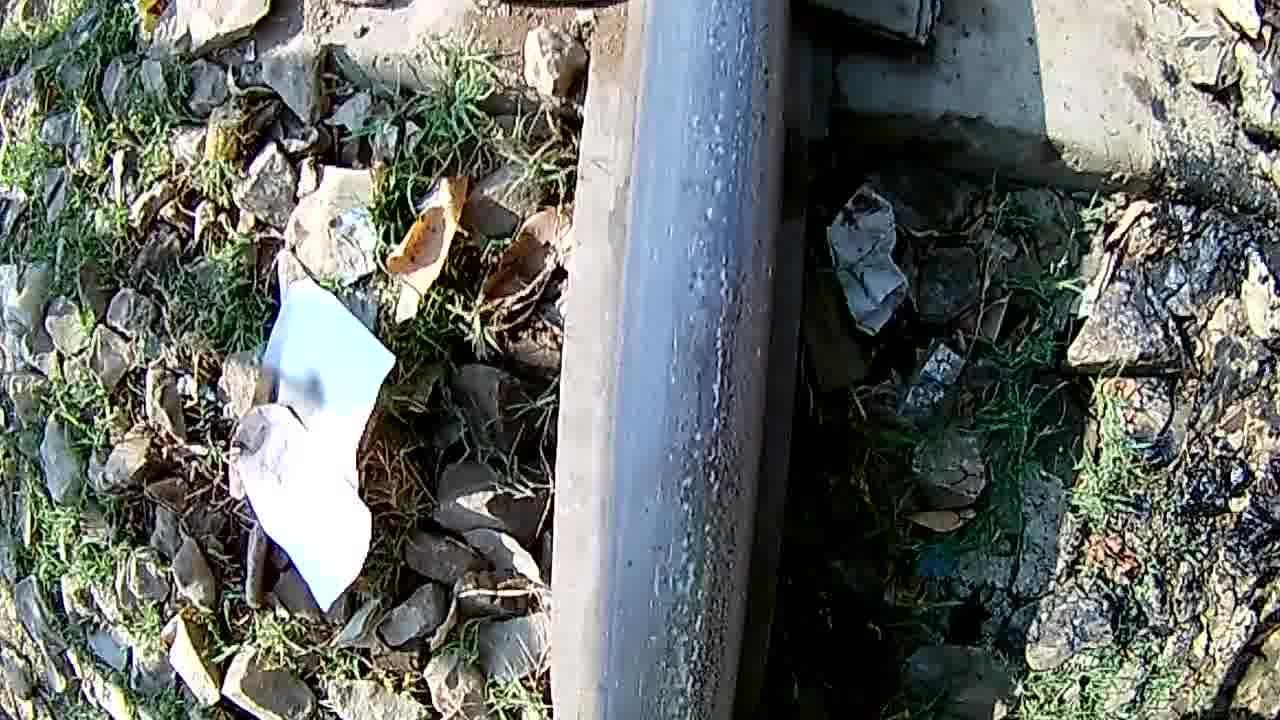crack: (628, 5, 748, 720)
